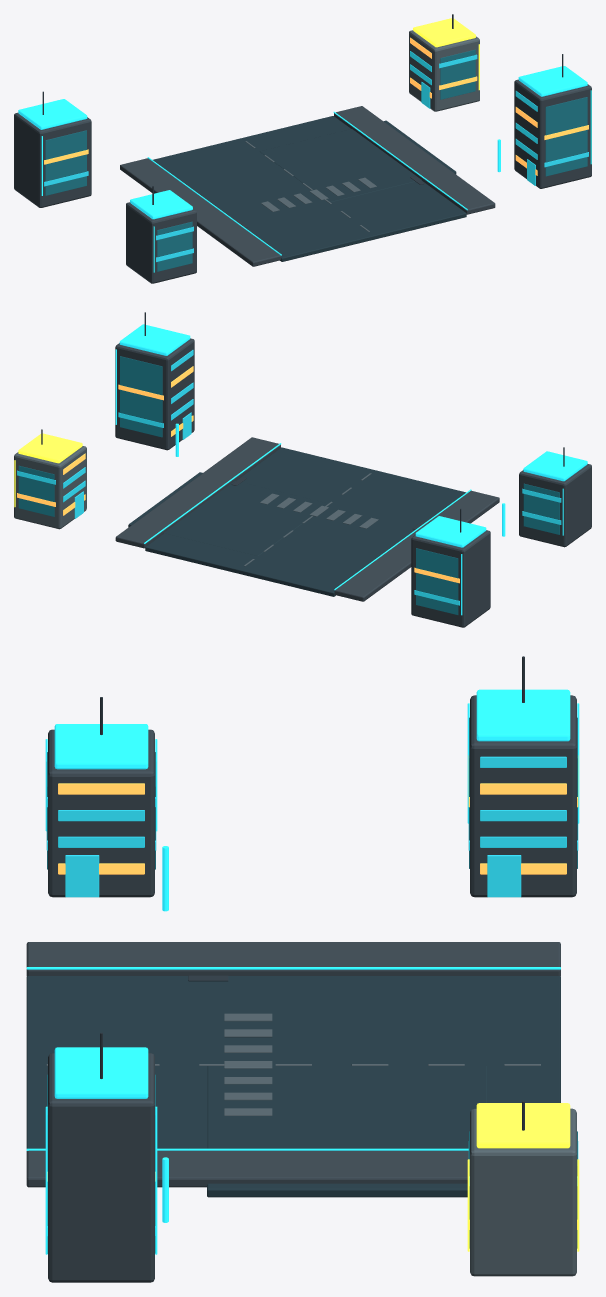
Rendered from corner_left_lod0.glb.
3 views of the same model, one above another, from view 1: azimuth 30°, elevation 25°; view 2: azimuth 150°, elevation 25°; view 3: azimuth 270°, elevation 25° (orthographic). The views are drawn at different scales.
Parts seen in each view (by area): view 1: ND_Batch_ND_WetAsphalt, ND_Batch_ND_CityConcrete, ND_Batch_ND_RoadEdge, ND_Batch_ND_DarkGlass, ND_Batch_ND_CityCyanMuted, ND_Batch_ND_CityConcreteLight, ND_Batch_ND_NeonGlass, ND_Batch_ND_PackageGold, ND_Batch_ND_WarmWindow; view 2: ND_Batch_ND_WetAsphalt, ND_Batch_ND_CityConcrete, ND_Batch_ND_RoadEdge, ND_Batch_ND_DarkGlass, ND_Batch_ND_CityCyanMuted, ND_Batch_ND_CityConcreteLight, ND_Batch_ND_NeonGlass, ND_Batch_ND_PackageGold, ND_Batch_ND_WarmWindow; view 3: ND_Batch_ND_WetAsphalt, ND_Batch_ND_CityConcrete, ND_Batch_ND_RoadEdge, ND_Batch_ND_CityCyanMuted, ND_Batch_ND_CityConcreteLight, ND_Batch_ND_NeonGlass, ND_Batch_ND_PackageGold, ND_Batch_ND_WarmWindow, ND_Batch_ND_DarkGlass, ND_Batch_ND_RooftopMetal.
Part boxes in pixels (<box>): ND_Batch_ND_WetAsphalt: <box>153,116,466,261</box>; ND_Batch_ND_CityConcrete: <box>14,79,591,283</box>; ND_Batch_ND_RoadEdge: <box>120,106,495,266</box>; ND_Batch_ND_DarkGlass: <box>45,49,587,271</box>; ND_Batch_ND_CityCyanMuted: <box>18,66,591,272</box>; ND_Batch_ND_CityConcreteLight: <box>245,30,479,231</box>; ND_Batch_ND_NeonGlass: <box>44,51,588,262</box>; ND_Batch_ND_PackageGold: <box>413,18,479,90</box>; ND_Batch_ND_WarmWindow: <box>44,37,588,175</box>; ND_Batch_ND_WetAsphalt: <box>128,447,465,596</box>; ND_Batch_ND_CityConcrete: <box>115,338,591,627</box>; ND_Batch_ND_RoadEdge: <box>115,437,499,601</box>; ND_Batch_ND_DarkGlass: <box>18,356,559,614</box>; ND_Batch_ND_CityCyanMuted: <box>115,324,587,615</box>; ND_Batch_ND_CityConcreteLight: <box>14,446,378,566</box>; ND_Batch_ND_NeonGlass: <box>17,350,561,605</box>; ND_Batch_ND_PackageGold: <box>14,433,82,507</box>; ND_Batch_ND_WarmWindow: <box>17,366,459,583</box>; ND_Batch_ND_WetAsphalt: <box>26,976,560,1197</box>; ND_Batch_ND_CityConcrete: <box>48,695,576,1282</box>; ND_Batch_ND_RoadEdge: <box>26,942,560,1187</box>; ND_Batch_ND_CityCyanMuted: <box>26,689,579,1254</box>; ND_Batch_ND_CityConcreteLight: <box>46,1013,576,1276</box>; ND_Batch_ND_NeonGlass: <box>46,756,578,1235</box>; ND_Batch_ND_PackageGold: <box>467,1103,579,1251</box>; ND_Batch_ND_WarmWindow: <box>47,755,578,1229</box>; ND_Batch_ND_DarkGlass: <box>47,717,577,1253</box>; ND_Batch_ND_RooftopMetal: <box>100,656,524,1148</box>.
Size of the model in its own units: 38.7 by 10.03 by 20.69.
